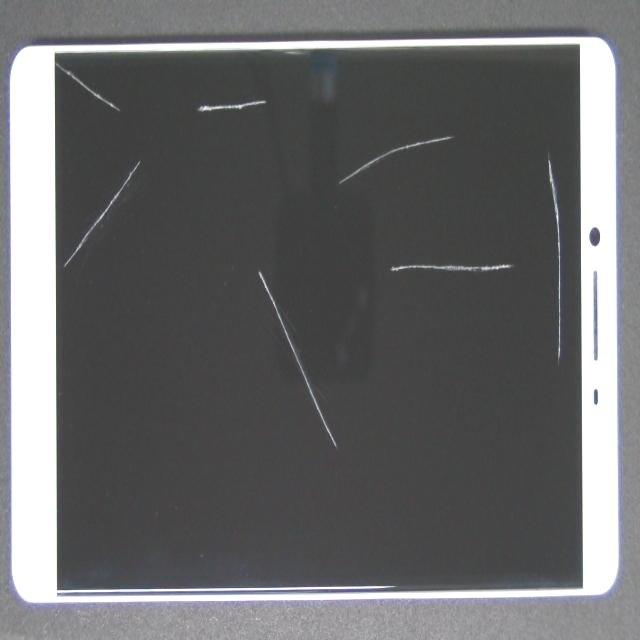scratch: (335, 136, 640, 381), (223, 335, 477, 578), (303, 36, 626, 209), (304, 190, 640, 332), (181, 50, 375, 143), (0, 5, 122, 141), (105, 26, 164, 271)
